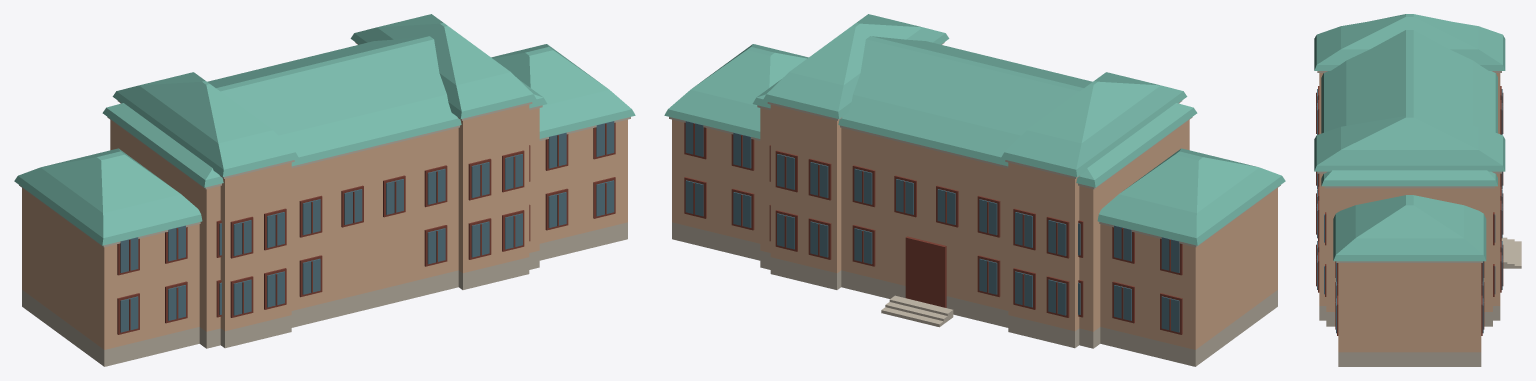
The model's file is school.glb.
3 views of the same model, side by side, from view 1: azimuth 30°, elevation 25°; view 2: azimuth 150°, elevation 25°; view 3: azimuth 270°, elevation 25° (orthographic). The views are drawn at different scales.
Parts seen in each view (by area): view 1: Sjöstadsskolan; view 2: Sjöstadsskolan; view 3: Sjöstadsskolan.
Part boxes in pixels (x1,y1,x2,y2): Sjöstadsskolan: (14,14,635,366); Sjöstadsskolan: (664,14,1285,366); Sjöstadsskolan: (1314,14,1521,366).
Bounding box in the file's own units: 22.42 × 8.8 × 8.71.
